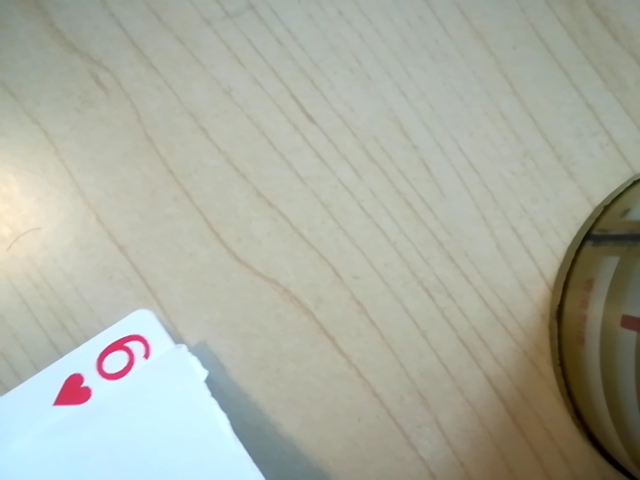hx 6: (46, 327, 161, 406)
